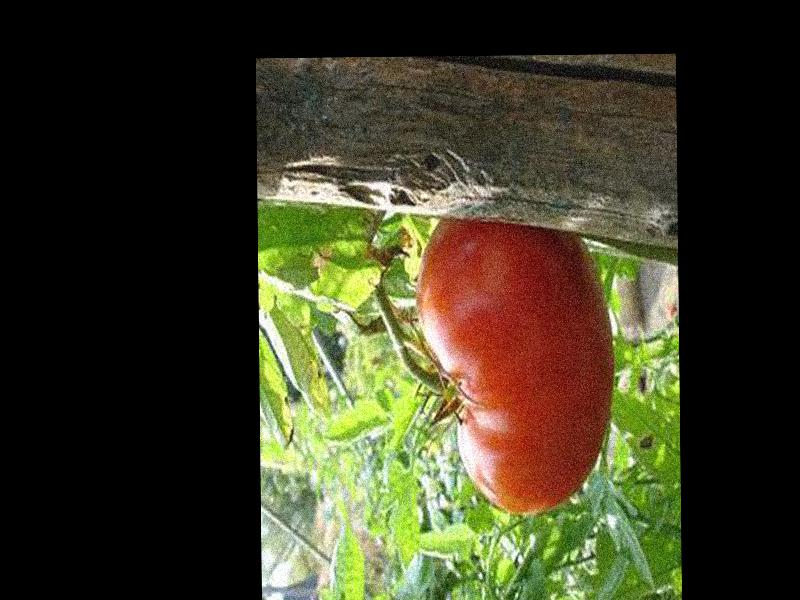Tomato: (415, 212, 613, 516)
